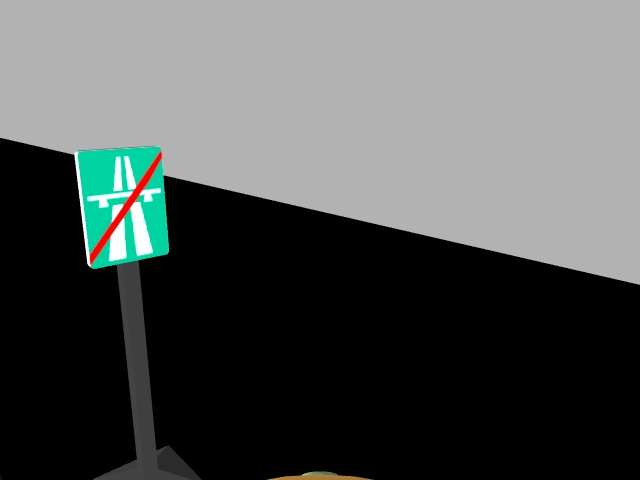HighwayExit: (70, 146, 171, 268)
